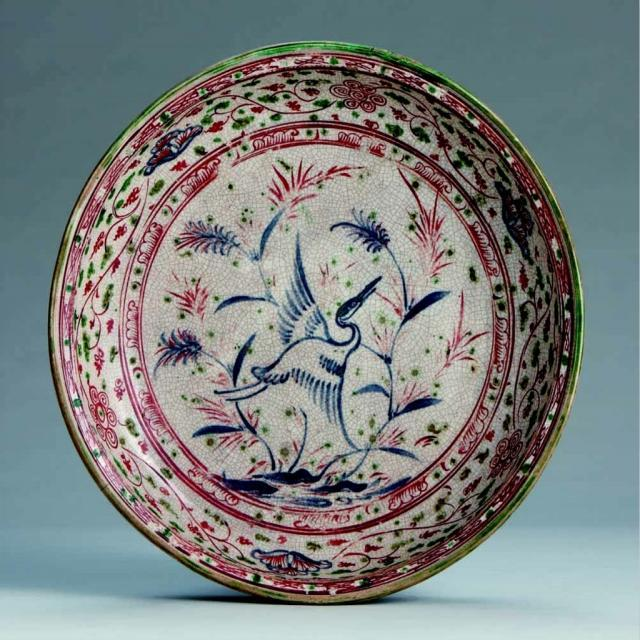ceramic plate: (80, 38, 570, 626)
